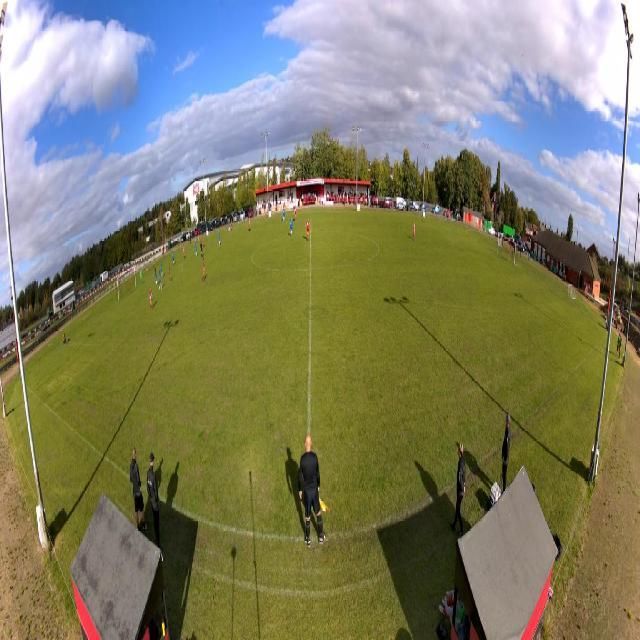ball: (239, 221, 240, 225)
player: (149, 285, 154, 312), (305, 217, 310, 242), (289, 217, 293, 238), (159, 270, 163, 291), (202, 257, 205, 283), (412, 221, 416, 240), (200, 240, 203, 259), (168, 262, 171, 281), (155, 267, 158, 286), (195, 240, 198, 258), (294, 205, 297, 222), (140, 268, 143, 285), (283, 206, 286, 222), (202, 233, 205, 249), (171, 250, 174, 266), (248, 217, 251, 232), (230, 218, 233, 232), (219, 229, 221, 246), (161, 261, 163, 278), (183, 244, 185, 260), (228, 219, 230, 233), (197, 231, 199, 243), (194, 234, 196, 244)
